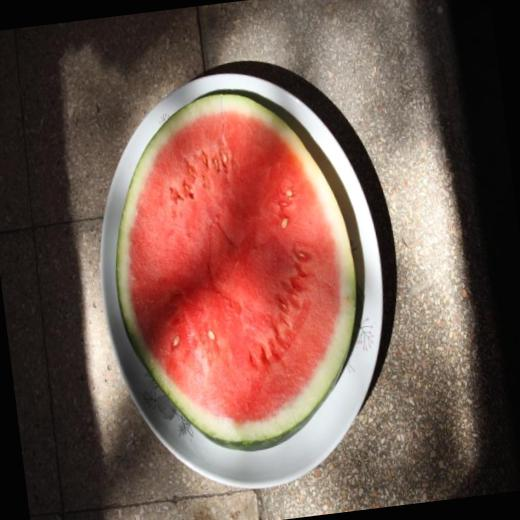Cherry: (96, 77, 376, 462)
